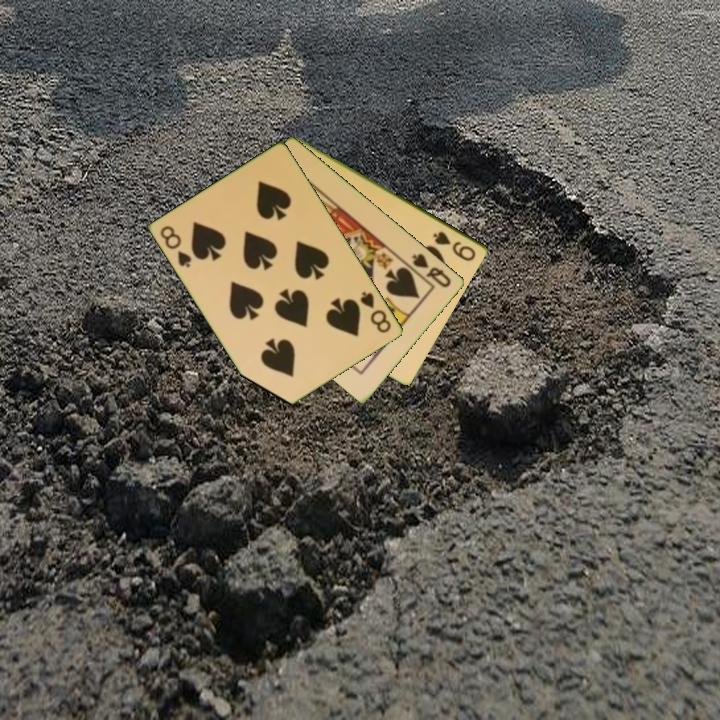8s: (157, 222, 195, 271), (357, 288, 394, 336)
9s: (430, 227, 479, 264)
Qs: (408, 250, 454, 290)
